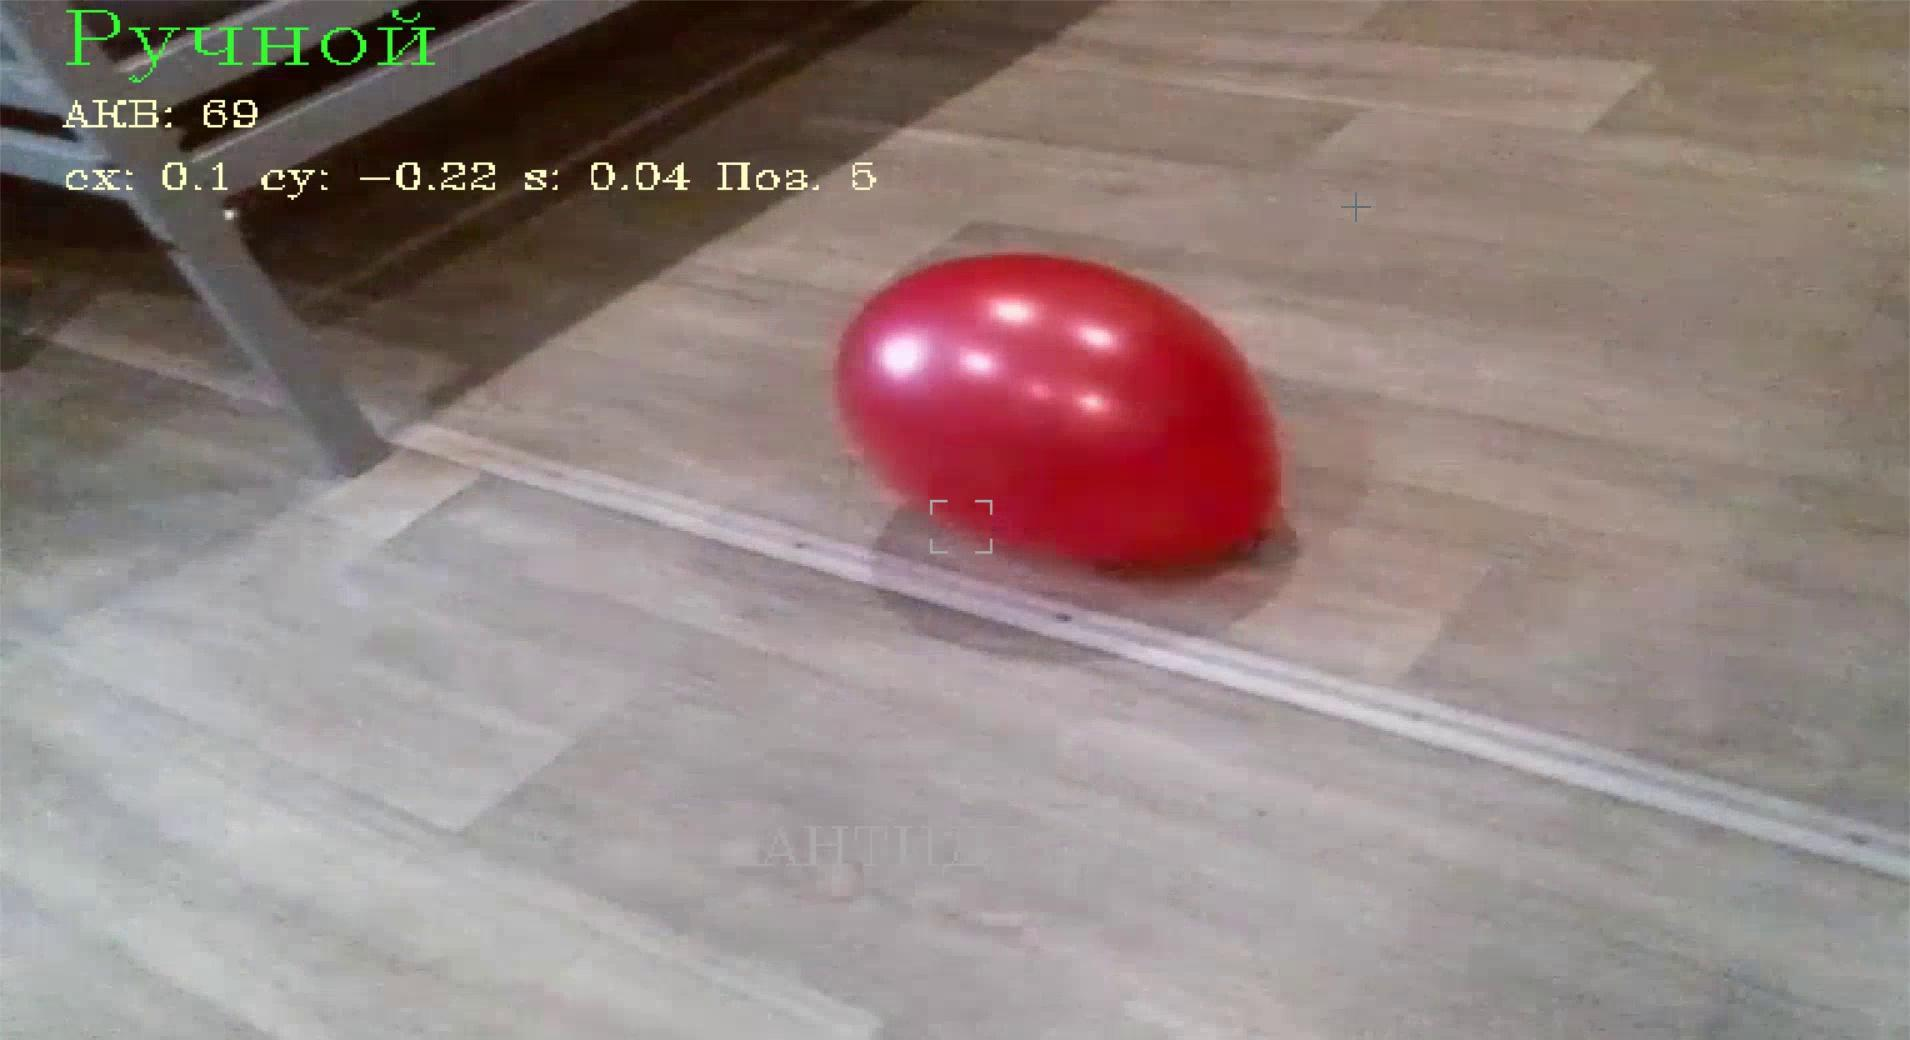red: (832, 248, 1287, 574)
